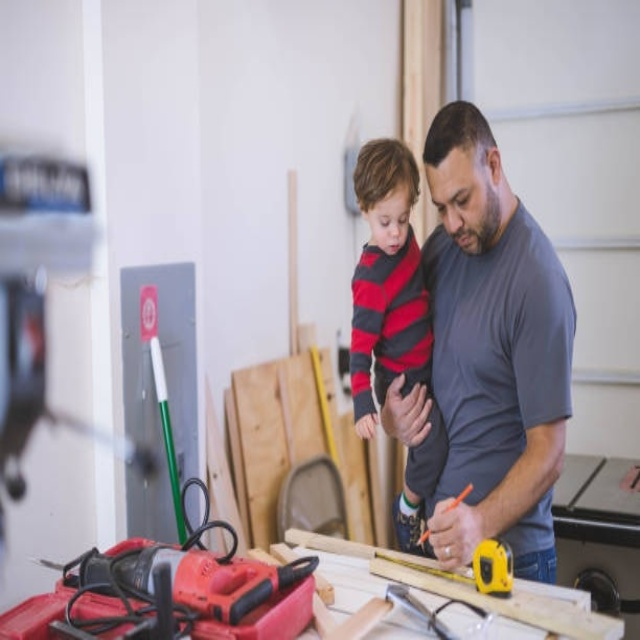Sin_gafas: (434, 179, 479, 217), (369, 204, 411, 228)
Sin_guantes: (428, 494, 487, 574), (381, 374, 432, 443), (355, 410, 381, 440)
Sin_mascara: (450, 226, 483, 252), (375, 236, 404, 255)
